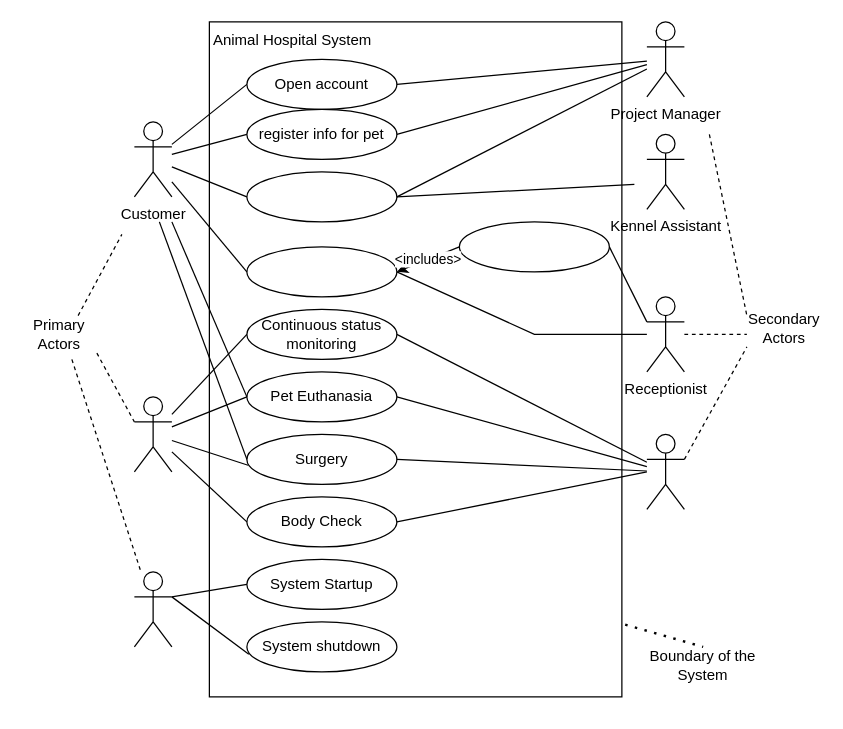
Some shapes in this 843 by 729 pixel diagram are drawn without their labels. The centre of each missing label's shape, as x and y in pixels:
"Bill Payment" goes at (321,271).
"Billing Calculation" goes at (533,246).
"Reserve room for pet" goes at (321,196).
"System Admin" goes at (152,609).
"Veterinarians" goes at (152,434).
"Veterinarians Assistant" goes at (665,471).
